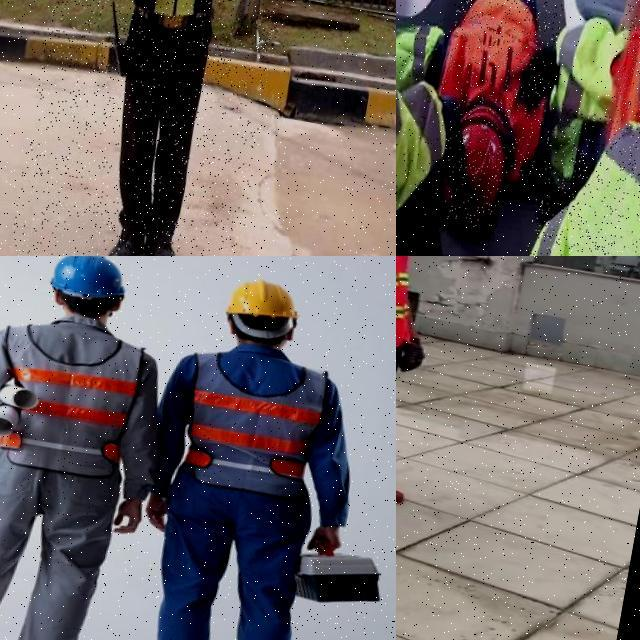boots: (396, 419, 422, 505), (100, 219, 147, 256), (138, 227, 182, 256)
helmet: (440, 97, 515, 230), (213, 272, 314, 360), (39, 256, 141, 316)
vest: (164, 336, 342, 512), (0, 308, 154, 491), (426, 0, 563, 181), (521, 106, 640, 256), (583, 0, 640, 256), (540, 4, 630, 154), (396, 62, 456, 245), (396, 14, 442, 88)
